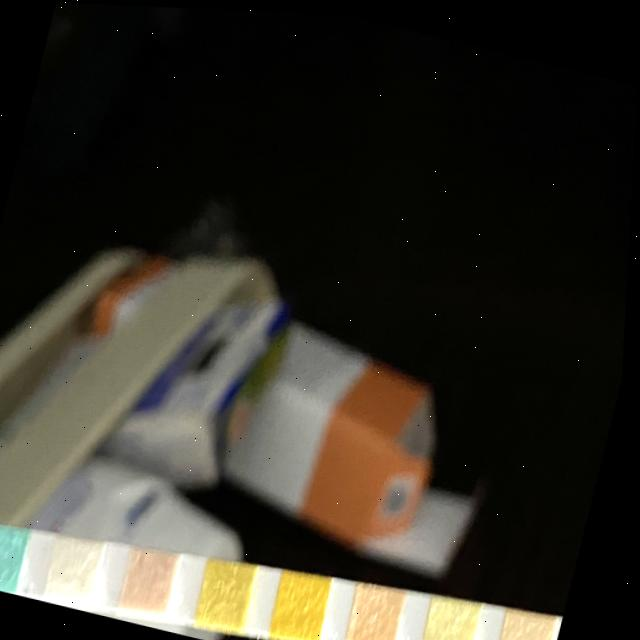Bilirubin: (50, 534, 112, 608)
Blood: (276, 565, 338, 640)
Glucose: (0, 520, 35, 594)
Ketone: (126, 542, 189, 617)
Protein: (428, 589, 489, 640)
SpGravity: (201, 553, 266, 631)
Urobilinogen: (502, 601, 564, 640)
pH: (352, 578, 411, 640)
